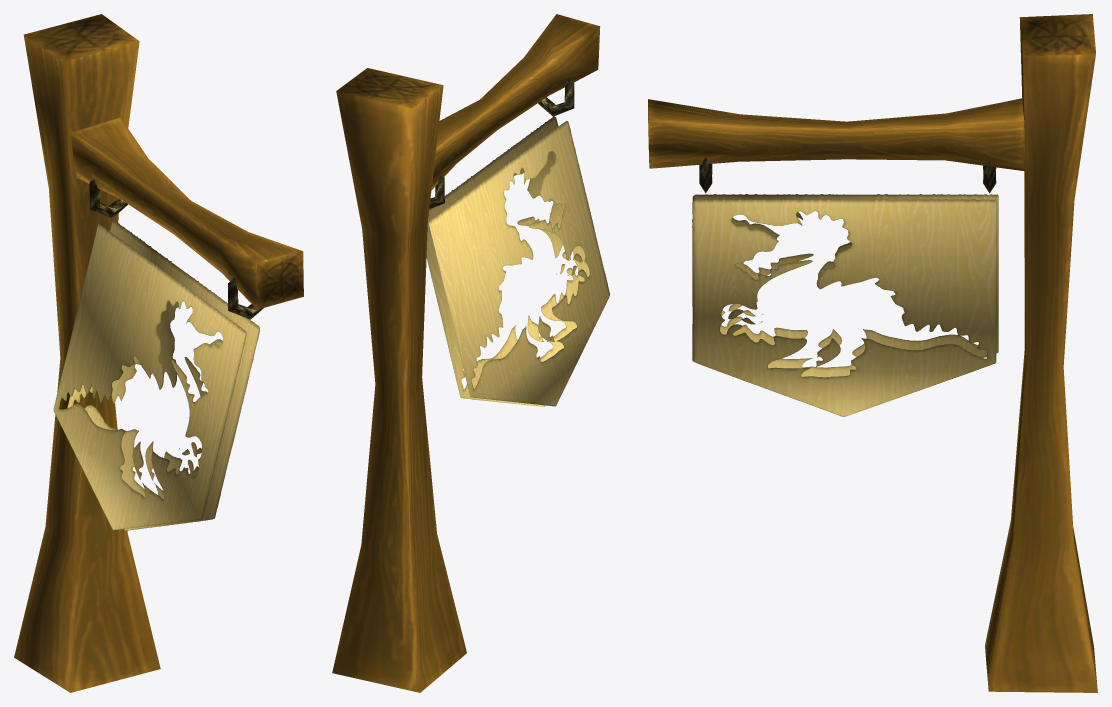
The model's file is INST_HTOWN_GREENDRAGSIGN.fbx.
3 renders of one model, left to right at view 1: azimuth 30°, elevation 25°; view 2: azimuth 150°, elevation 25°; view 3: azimuth 270°, elevation 25°, orthographic. The views are drawn at different scales.
Parts seen in each view (by area): view 1: INST_HTOWN_GREENDRAGSIGN; view 2: INST_HTOWN_GREENDRAGSIGN; view 3: INST_HTOWN_GREENDRAGSIGN.
Boxes of the visible parts, bbox=[...] form: INST_HTOWN_GREENDRAGSIGN: bbox=[14, 14, 303, 692]; INST_HTOWN_GREENDRAGSIGN: bbox=[332, 14, 609, 692]; INST_HTOWN_GREENDRAGSIGN: bbox=[648, 14, 1097, 692].
Bounding box in the file's own units: 5628 × 27341 × 17482.
3 materials, 3 textured.
